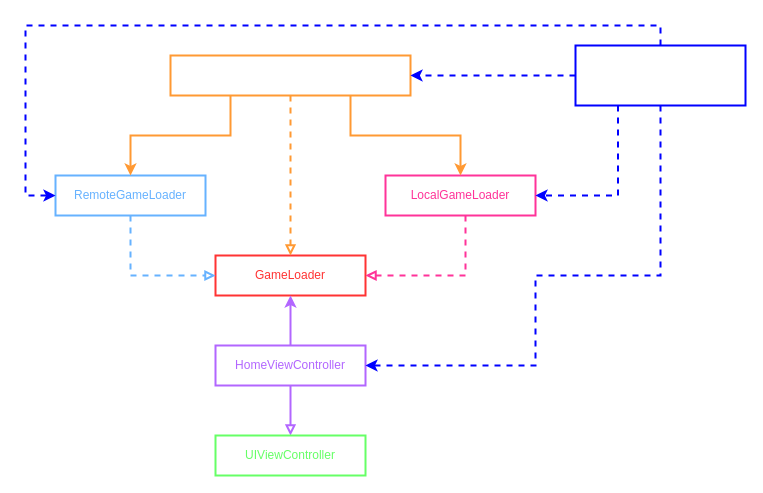
Some shapes in this 763 by 493 pixel diagram are drawn without their labels. Each missing label, with the box of its shape:
Game Assembler/Builder/Factory: (574, 44, 746, 106)
RemoteWithLocalFallbackGameLoader: (169, 54, 411, 96)
